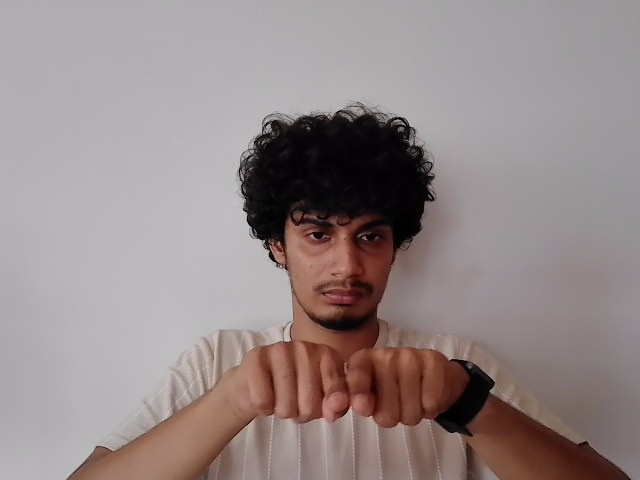same: (237, 337, 446, 426)
